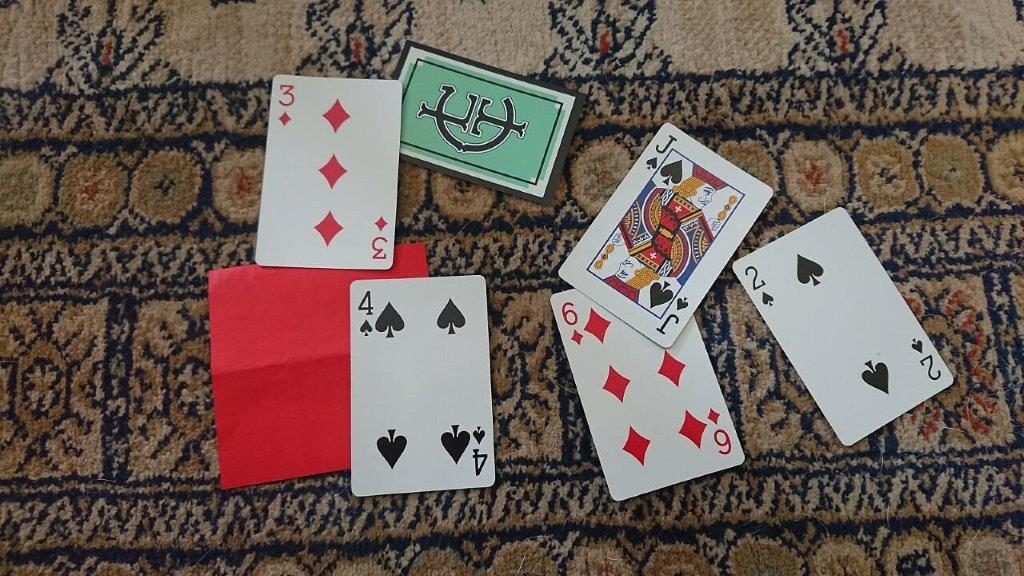2S: (742, 261, 776, 309)
3D: (273, 80, 297, 129)
4S: (353, 286, 376, 338)
6D: (559, 299, 587, 348)
JS: (642, 132, 681, 174)
